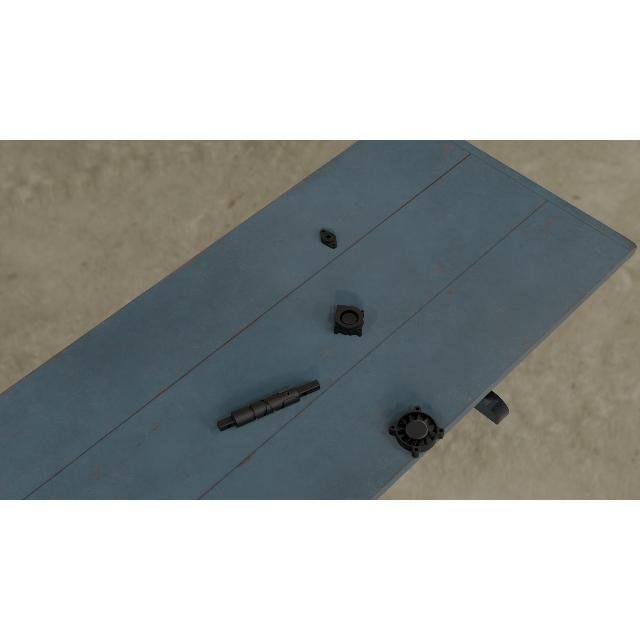Pieza1: (215, 374, 322, 438)
Pieza2: (316, 226, 342, 250)
Pieza3: (334, 304, 366, 338)
Pieza4: (387, 404, 447, 460)
